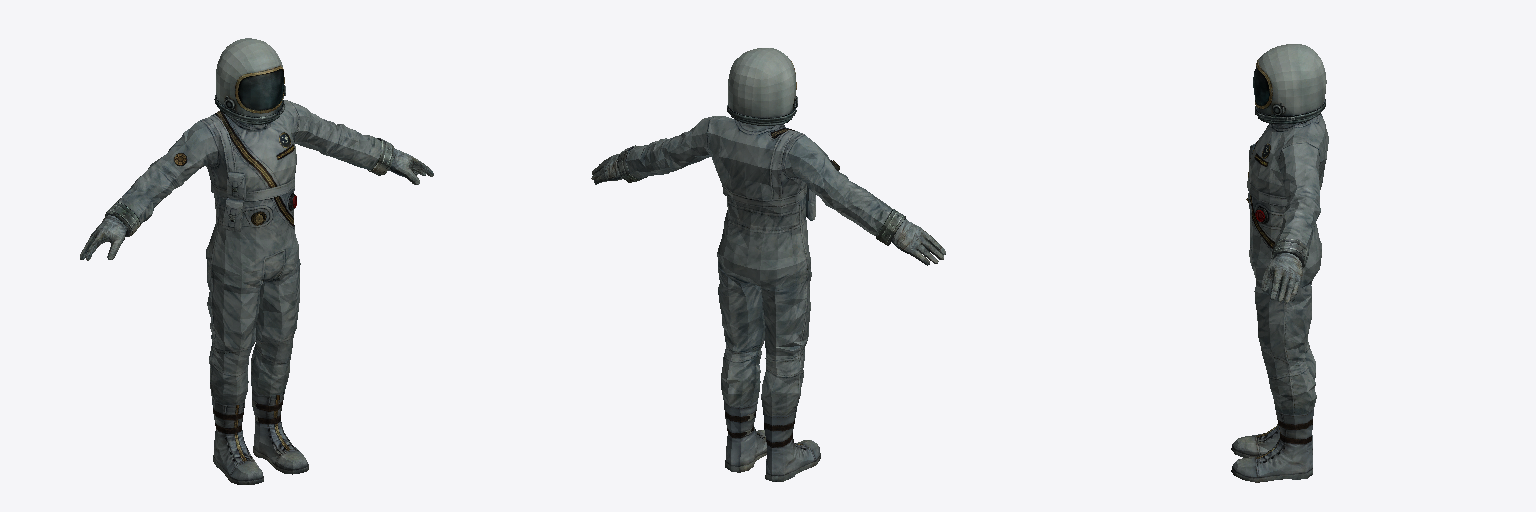
3 views of the same model, side by side, from view 1: azimuth 30°, elevation 25°; view 2: azimuth 150°, elevation 25°; view 3: azimuth 270°, elevation 25° (orthographic).
Visible parts, largest first — view 1: SpacesuitBody, SpacesuitHelmet, SpacesuitGlove; view 2: SpacesuitBody, SpacesuitHelmet, SpacesuitGlove; view 3: SpacesuitBody, SpacesuitHelmet, SpacesuitGlove.
Part boxes in pixels (left/top/right/bottom): SpacesuitBody: left=105, top=100, right=393, bottom=484; SpacesuitHelmet: left=214, top=38, right=285, bottom=124; SpacesuitGlove: left=80, top=148, right=433, bottom=260; SpacesuitBody: left=617, top=116, right=905, bottom=481; SpacesuitHelmet: left=727, top=48, right=797, bottom=125; SpacesuitGlove: left=591, top=154, right=945, bottom=265; SpacesuitBody: left=1231, top=114, right=1328, bottom=482; SpacesuitHelmet: left=1253, top=44, right=1326, bottom=123; SpacesuitGlove: left=1261, top=131, right=1302, bottom=303.
Size of the model in its own units: 3.32 by 3.77 by 0.7983.
Materials: 3 (3 with a texture image).